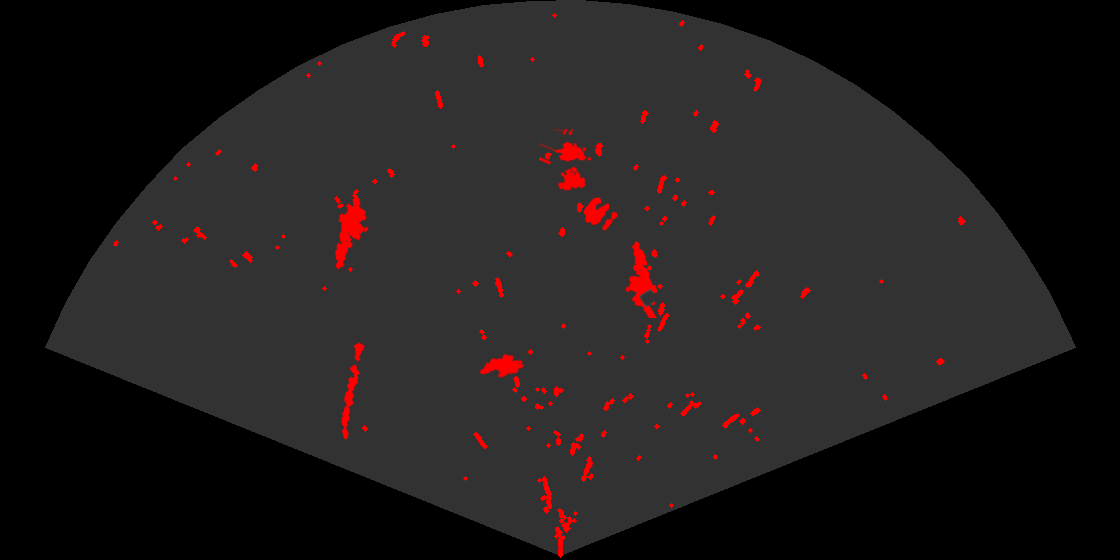AUV: (478, 352, 526, 379)
ball: (582, 196, 619, 232)
cage: (539, 129, 593, 193)
chain: (340, 340, 366, 441)
frogman: (624, 240, 659, 318), (334, 199, 370, 271)
